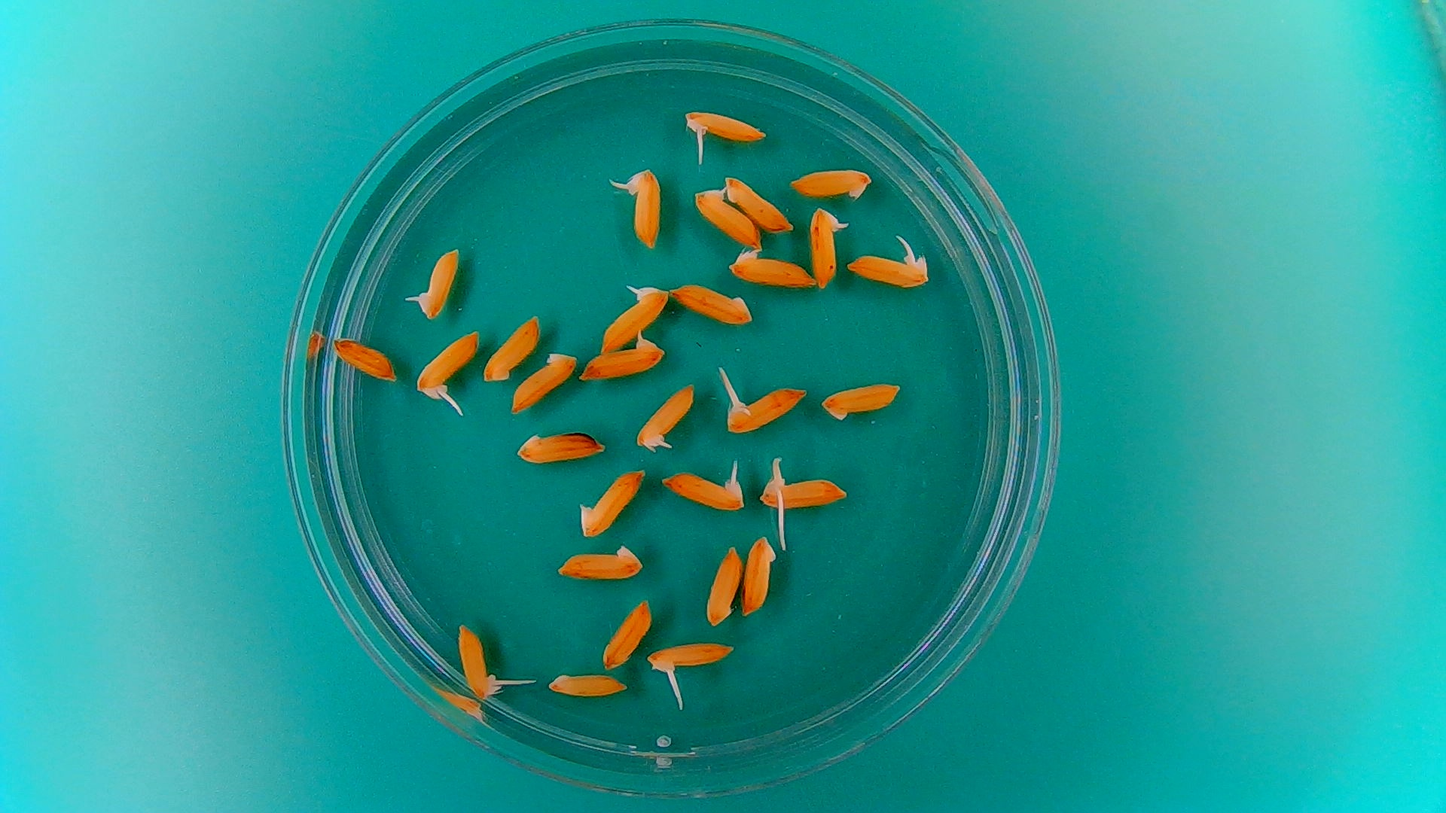no: (575, 464, 648, 540), (508, 348, 583, 416), (719, 171, 795, 235), (481, 308, 545, 383), (599, 595, 654, 670), (514, 426, 608, 469), (555, 541, 645, 583), (703, 540, 745, 629), (819, 378, 902, 422), (671, 284, 755, 326), (329, 334, 399, 384), (740, 532, 779, 616), (789, 166, 872, 201), (546, 671, 631, 699)
yes: (600, 283, 673, 355), (633, 379, 698, 455), (414, 327, 483, 397), (692, 187, 764, 253), (724, 245, 816, 291), (725, 385, 803, 434), (578, 338, 663, 382), (663, 470, 747, 514), (809, 202, 848, 293), (455, 625, 499, 702), (419, 249, 463, 323), (647, 640, 736, 676), (846, 251, 929, 289), (757, 477, 846, 512), (625, 169, 663, 248), (682, 108, 765, 142)
